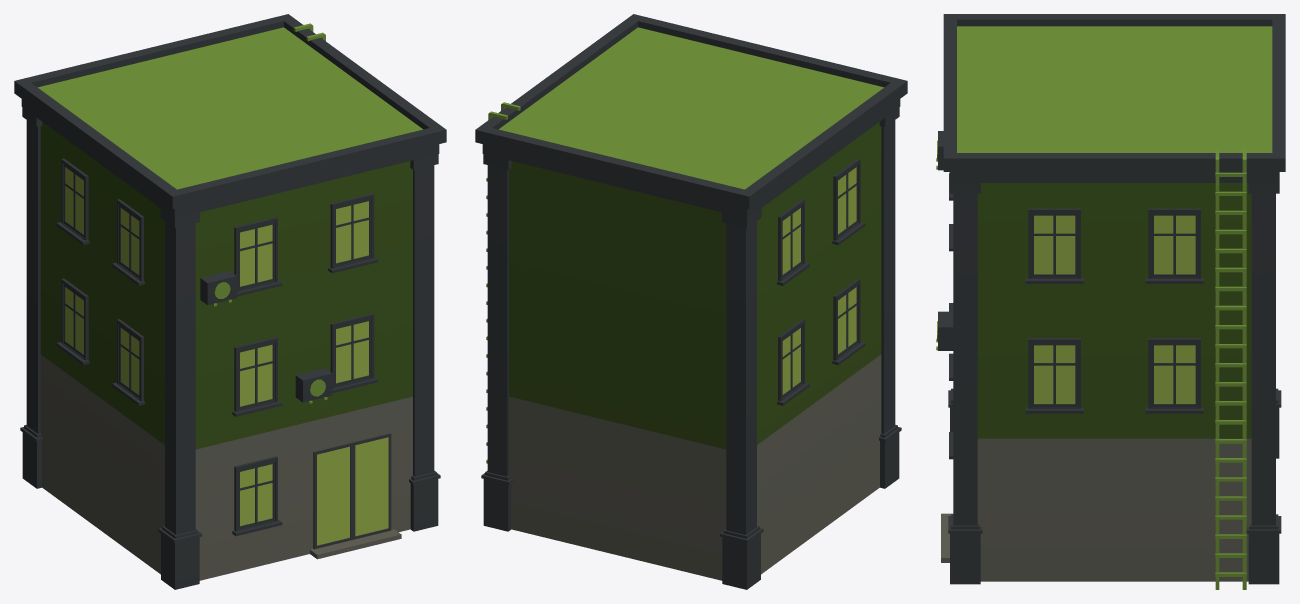
Rendered from House_15.fbx.
The picture shows the model from 3 angles, left to right: view 1: azimuth 30°, elevation 25°; view 2: azimuth 150°, elevation 25°; view 3: azimuth 270°, elevation 25°; orthographic projection. The views are drawn at different scales.
Parts seen in each view (by area): view 1: House_15; view 2: House_15; view 3: House_15.
Boxes of the visible parts, left/top/right/bottom form: House_15: left=14, top=14, right=446, bottom=589; House_15: left=475, top=14, right=907, bottom=589; House_15: left=936, top=14, right=1285, bottom=589.
Bounding box in the file's own units: 6.68 × 9.07 × 6.65.
